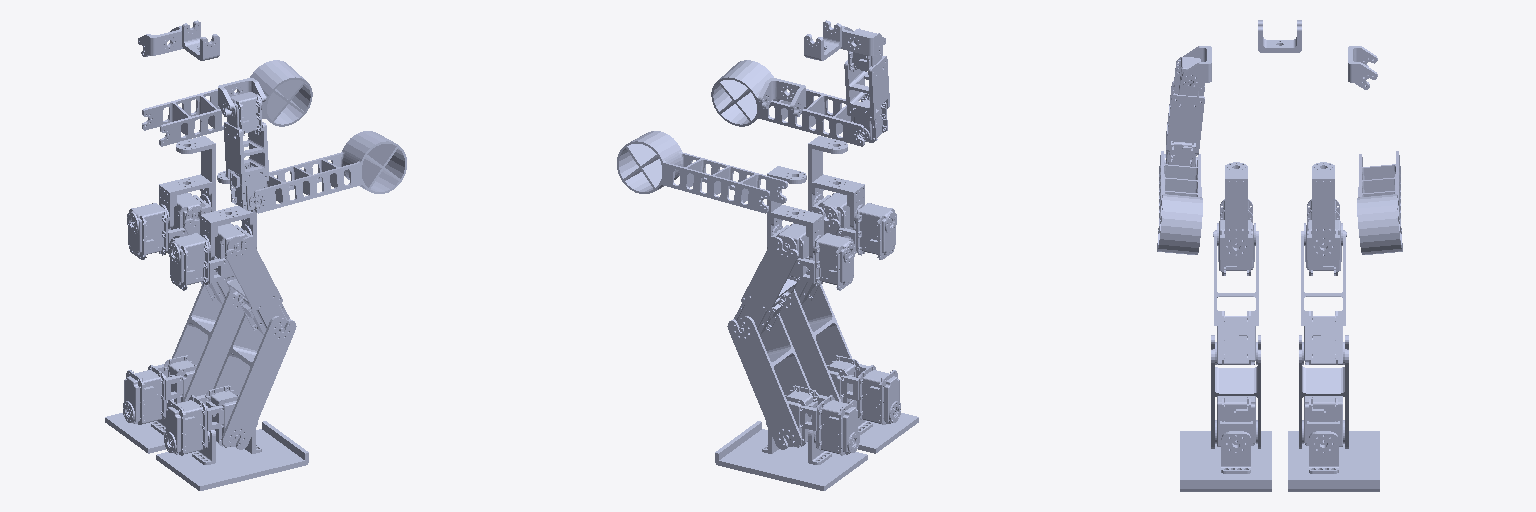
--- What the picture shows (computed from the rendered views, not written in the file) ---
The picture shows the robot from 3 angles, left to right: view 1: azimuth 30°, elevation 25°; view 2: azimuth 150°, elevation 25°; view 3: azimuth 270°, elevation 25°; orthographic projection.
Model kubot23N with 21 links and 20 joints (12 revolute, 8 fixed), rooted at base_link, posed every joint at zero.
Links seen in each view (by area): view 1: R_hand_pitch, L_hand_pitch, R_Knee, R_Ankle_roll, L_Knee, R_elbow_roll, R_Ankle_pitch, L_Ankle_pitch, R_Hip_roll, R_Hip_pitch, L_Hip_roll, L_Hip_yaw (+6 smaller); view 2: L_hand_pitch, R_hand_pitch, L_Knee, L_Ankle_roll, R_Knee, L_Ankle_pitch, R_elbow_roll, R_Ankle_pitch, L_Hip_roll, L_Hip_pitch, R_Hip_roll, R_Hip_yaw (+6 smaller); view 3: L_Ankle_roll, R_Ankle_roll, L_hand_pitch, R_hand_pitch, R_elbow_roll, L_Ankle_pitch, R_Ankle_pitch, L_Hip_pitch, R_Hip_pitch, L_Hip_yaw, R_Hip_yaw, L_Knee (+6 smaller).
Link boxes in pixels (x1,y1,x2,y2): R_hand_pitch: (254, 131, 406, 213); L_hand_pitch: (142, 60, 312, 146); R_Knee: (213, 313, 296, 449); R_Ankle_roll: (156, 421, 308, 490); L_Knee: (172, 284, 243, 401); R_elbow_roll: (224, 92, 268, 210); R_Ankle_pitch: (164, 385, 261, 455); L_Ankle_pitch: (123, 355, 196, 424); R_Hip_roll: (168, 223, 252, 290); R_Hip_pitch: (225, 223, 289, 334); L_Hip_roll: (127, 193, 211, 259); L_Hip_yaw: (159, 136, 215, 228); L_hand_pitch: (617, 131, 787, 213); R_hand_pitch: (711, 60, 864, 146); L_Knee: (727, 313, 810, 449); L_Ankle_roll: (715, 421, 867, 490); R_Knee: (780, 284, 851, 401); L_Ankle_pitch: (762, 385, 859, 455); R_elbow_roll: (844, 28, 889, 142); R_Ankle_pitch: (827, 355, 900, 424); L_Hip_roll: (771, 223, 855, 290); L_Hip_pitch: (734, 223, 798, 334); R_Hip_roll: (812, 193, 896, 259); R_Hip_yaw: (808, 136, 864, 228); L_Ankle_roll: (1288, 431, 1379, 491); R_Ankle_roll: (1180, 431, 1271, 491); L_hand_pitch: (1357, 151, 1402, 254); R_hand_pitch: (1157, 151, 1202, 254); R_elbow_roll: (1164, 57, 1204, 166); L_Ankle_pitch: (1302, 396, 1344, 473); R_Ankle_pitch: (1215, 396, 1257, 473); L_Hip_pitch: (1301, 231, 1346, 364); R_Hip_pitch: (1213, 231, 1258, 364); L_Hip_yaw: (1312, 162, 1334, 259); R_Hip_yaw: (1225, 162, 1247, 259); L_Knee: (1299, 335, 1348, 448).
Bounding box of the posed robot: 0.2946 × 0.2945 × 0.5795 m (x, y, z).
Meshes: 21 distinct files referenced, 18 mesh visuals loaded (18 binary STL); not drawn: 3 (reference not matched to a file when rendering).

robot.urdf — kubot23N:
<?xml version="1.0" encoding="utf-8"?>
<!-- This URDF was automatically created by SolidWorks to URDF Exporter! Originally created by Stephen Brawner ([email redacted]) 
     Commit Version: 1.6.0-1-g15f4949  Build Version: 1.6.7594.29634
     For more information, please see http://wiki.ros.org/sw_urdf_exporter -->
<robot
  name="kubot23N">
  <link
    name="base_link">
    <inertial>
      <origin
        xyz="-0.01298 -0.0002287 0.10165"
        rpy="0 0 0" />
      <mass
        value="1.5013" />
      <inertia
        ixx="0.002447"
        ixy="0"
        ixz="0"
        iyy="0.0016369"
        iyz="0"
        izz="0.002646" />
    </inertial>
    <visual>
      <origin
        xyz="0 0 0"
        rpy="0 0 0" />
      <geometry>
        <mesh
          filename="../meshes/base_link.STL" />
      </geometry>
      <material
        name="">
        <color
          rgba="0.79216 0.81961 0.93333 1" />
      </material>
    </visual>
    <collision>
      <origin
        xyz="0 0 0"
        rpy="0 0 0" />
      <geometry>
        <mesh
          filename="../meshes/base_link.STL" />
      </geometry>
    </collision>
  </link>
  <link
    name="L_Hip_yaw">
    <inertial>
      <origin
        xyz="0.0079905 -7.6661E-09 0.037856"
        rpy="0 0 0" />
      <mass
        value="0.042373" />
      <inertia
        ixx="2.0934E-05"
        ixy="0"
        ixz="0"
        iyy="2.3301E-05"
        iyz="0"
        izz="8.0568E-06" />
    </inertial>
    <visual>
      <origin
        xyz="0 0 0"
        rpy="0 0 0" />
      <geometry>
        <mesh
          filename="../meshes/L_Hip_yaw.STL" />
      </geometry>
      <material
        name="">
        <color
          rgba="0.79216 0.81961 0.93333 1" />
      </material>
    </visual>
    <collision>
      <origin
        xyz="0 0 0"
        rpy="0 0 0" />
      <geometry>
        <mesh
          filename="../meshes/L_Hip_yaw.STL" />
      </geometry>
    </collision>
  </link>
  <joint
    name="L_Hip_yaw_joint"
    type="fixed">
    <origin
      xyz="0.02369 0.052535 -0.026869"
      rpy="0 0 0" />
    <parent
      link="base_link" />
    <child
      link="L_Hip_yaw" />
    <axis
      xyz="0 0 1" />
    <limit command_effort="40" current="10" effort="80" gear_velocity="10" lower="-0.01" upper="0.01" velocity="15"/>
    <dynamics damping="1.0" friction="0.1"/>
  </joint>
  <link
    name="L_Hip_roll">
    <inertial>
      <origin
        xyz="-0.026534 3.8583E-05 -0.015186"
        rpy="0 0 0" />
      <mass
        value="0.16184" />
      <inertia
        ixx="5.7094E-05"
        ixy="0"
        ixz="0"
        iyy="5.6447E-05"
        iyz="0"
        izz="3.5594E-05" />
    </inertial>
    <visual>
      <origin
        xyz="0 0 0"
        rpy="0 0 0" />
      <geometry>
        <mesh
          filename="../meshes/L_Hip_roll.STL" />
      </geometry>
      <material
        name="">
        <color
          rgba="0.79216 0.81961 0.93333 1" />
      </material>
    </visual>
    <collision>
      <origin
        xyz="0 0 0"
        rpy="0 0 0" />
      <geometry>
        <mesh
          filename="../meshes/L_Hip_roll.STL" />
      </geometry>
    </collision>
  </link>
  <joint
    name="L_Hip_roll_joint"
    type="revolute">
    <origin
      xyz="0 0 0"
      rpy="0 0 0" />
    <parent
      link="L_Hip_yaw" />
    <child
      link="L_Hip_roll" />
    <axis
      xyz="-1 0 0" />
    <limit command_effort="40" current="10" effort="80" gear_velocity="10" lower="-0.45" upper="0.3" velocity="15"/>
    <dynamics damping="1.0" friction="0.1"/>
  </joint>
  <link
    name="L_Hip_pitch">
    <inertial>
      <origin
        xyz="-0.00049308 0.00014973 -0.10339"
        rpy="0 0 0" />
      <mass
        value="0.13309" />
      <inertia
        ixx="0.00010704"
        ixy="0"
        ixz="0"
        iyy="7.9626E-05"
        iyz="0"
        izz="5.4203E-05" />
    </inertial>
    <visual>
      <origin
        xyz="0 0 0"
        rpy="0 0 0" />
      <geometry>
        <mesh
          filename="../meshes/L_Hip_pitch.STL" />
      </geometry>
      <material
        name="">
        <color
          rgba="0.79216 0.81961 0.93333 1" />
      </material>
    </visual>
    <collision>
      <origin
        xyz="0 0 0"
        rpy="0 0 0" />
      <geometry>
        <mesh
          filename="../meshes/L_Hip_pitch.STL" />
      </geometry>
    </collision>
  </link>
  <joint
    name="L_Hip_pitch_joint"
    type="revolute">
    <origin
      xyz="0 0 0"
      rpy="0 -0.45 0" />
    <parent
      link="L_Hip_roll" />
    <child
      link="L_Hip_pitch" />
    <axis
      xyz="0 -1 0" />
    <limit command_effort="40" current="10" effort="80" gear_velocity="10" lower="-0.795" upper="1.0" velocity="15"/>
    <dynamics damping="1.0" friction="0.1"/>
  </joint>
  <link
    name="L_Knee">
    <inertial>
      <origin
        xyz="-0.0008 0.00019995 -0.071592"
        rpy="0 0 0" />
      <mass
        value="0.064192" />
      <inertia
        ixx="0.00017283"
        ixy="0"
        ixz="0"
        iyy="0.00013756"
        iyz="0"
        izz="5.3025E-05" />
    </inertial>
    <visual>
      <origin
        xyz="0 0 0"
        rpy="0 0 0" />
      <geometry>
        <mesh
          filename="../meshes/L_Knee.STL" />
      </geometry>
      <material
        name="">
        <color
          rgba="0.79216 0.81961 0.93333 1" />
      </material>
    </visual>
    <collision>
      <origin
        xyz="0 0 0"
        rpy="0 0 0" />
      <geometry>
        <mesh
          filename="../meshes/L_Knee.STL" />
      </geometry>
    </collision>
  </link>
  <joint
    name="L_Knee_joint"
    type="revolute">
    <origin
      xyz="0 0 -0.142"
      rpy="0 0.9 0" />
    <parent
      link="L_Hip_pitch" />
    <child
      link="L_Knee" />
    <axis
      xyz="0 -1 0" />
    <limit command_effort="40" current="10" effort="80" gear_velocity="10" lower="-1.0" upper="0.0" velocity="15"/>
    <dynamics damping="1.0" friction="0.1"/>
  </joint>
  <link
    name="L_Ankle_pitch">
    <inertial>
      <origin
        xyz="-0.023428 0.00014941 0.013986"
        rpy="0 0 0" />
      <mass
        value="0.202" />
      <inertia
        ixx="8.0067E-05"
        ixy="0"
        ixz="0"
        iyy="7.8271E-05"
        iyz="0"
        izz="4.9146E-05" />
    </inertial>
    <visual>
      <origin
        xyz="0 0 0"
        rpy="0 0 0" />
      <geometry>
        <mesh
          filename="../meshes/L_Ankle_pitch.STL" />
      </geometry>
      <material
        name="">
        <color
          rgba="0.79216 0.81961 0.93333 1" />
      </material>
    </visual>
    <collision>
      <origin
        xyz="0 0 0"
        rpy="0 0 0" />
      <geometry>
        <mesh
          filename="../meshes/L_Ankle_pitch.STL" />
      </geometry>
    </collision>
  </link>
  <joint
    name="L_Ankle_pitch_joint"
    type="revolute">
    <origin
      xyz="0 0 -0.15"
      rpy="0 -0.45 0" />
    <parent
      link="L_Knee" />
    <child
      link="L_Ankle_pitch" />
    <axis
      xyz="0 -1 0" />
    <limit command_effort="40" current="10" effort="80" gear_velocity="10" lower="-0.6" upper="0.6" velocity="15"/>
    <dynamics damping="1.0" friction="0.1"/>
  </joint>
  <link
    name="L_Ankle_roll">
    <inertial>
      <origin
        xyz="0.0032401 0.011838 -0.036203"
        rpy="0 0 0" />
      <mass
        value="0.13947" />
      <inertia
        ixx="0.00013469"
        ixy="0"
        ixz="0"
        iyy="0.00029939"
        iyz="0"
        izz="0.0004274" />
    </inertial>
    <visual>
      <origin
        xyz="0 0 0"
        rpy="0 0 0" />
      <geometry>
        <mesh
          filename="../meshes/L_Ankle_roll.STL" />
      </geometry>
      <material
        name="">
        <color
          rgba="0.79216 0.81961 0.93333 1" />
      </material>
    </visual>
    <collision>
      <origin
        xyz="0 0 0"
        rpy="0 0 0" />
      <geometry>
        <mesh
          filename="../meshes/L_Ankle_roll.STL" />
      </geometry>
    </collision>
  </link>
  <joint
    name="L_Ankle_roll_joint"
    type="revolute">
    <origin
      xyz="0 0 0"
      rpy="0 0 0" />
    <parent
      link="L_Ankle_pitch" />
    <child
      link="L_Ankle_roll" />
    <axis
      xyz="-1 0 0" />
    <limit command_effort="40" current="10" effort="80" gear_velocity="10" lower="-0.5" upper="0.5" velocity="15"/>
    <dynamics damping="0.707" friction="0.1"/>
  </joint>
  <link
    name="R_Hip_yaw">
    <inertial>
      <origin
        xyz="0.0079905 -7.6661E-09 0.037856"
        rpy="0 0 0" />
      <mass
        value="0.042373" />
      <inertia
        ixx="2.0934E-05"
        ixy="0"
        ixz="0"
        iyy="2.3301E-05"
        iyz="0"
        izz="8.0568E-06" />
    </inertial>
    <visual>
      <origin
        xyz="0 0 0"
        rpy="0 0 0" />
      <geometry>
        <mesh
          filename="../meshes/R_Hip_yaw.STL" />
      </geometry>
      <material
        name="">
        <color
          rgba="0.79216 0.81961 0.93333 1" />
      </material>
    </visual>
    <collision>
      <origin
        xyz="0 0 0"
        rpy="0 0 0" />
      <geometry>
        <mesh
          filename="../meshes/R_Hip_yaw.STL" />
      </geometry>
    </collision>
  </link>
  <joint
    name="R_Hip_yaw_joint"
    type="revolute">
    <origin
      xyz="0.02369 -0.052065 -0.026869"
      rpy="0 0 0" />
    <parent
      link="base_link" />
    <child
      link="R_Hip_yaw" />
    <axis
      xyz="0 0 1" />
    <limit command_effort="40" current="10" effort="80" gear_velocity="10" lower="-0.1" upper="0.1" velocity="15"/>
    <dynamics damping="0.707" friction="0.1"/>
  </joint>
  <link
    name="R_Hip_roll">
    <inertial>
      <origin
        xyz="-0.026534 -3.8624E-05 -0.015186"
        rpy="0 0 0" />
      <mass
        value="0.16184" />
      <inertia
        ixx="5.7094E-05"
        ixy="0"
        ixz="0"
        iyy="5.6447E-05"
        iyz="0"
        izz="3.5594E-05" />
    </inertial>
    <visual>
      <origin
        xyz="0 0 0"
        rpy="0 0 0" />
      <geometry>
        <mesh
          filename="../meshes/R_Hip_roll.STL" />
      </geometry>
      <material
        name="">
        <color
          rgba="0.79216 0.81961 0.93333 1" />
      </material>
    </visual>
    <collision>
      <origin
        xyz="0 0 0"
        rpy="0 0 0" />
      <geometry>
        <mesh
          filename="../meshes/R_Hip_roll.STL" />
      </geometry>
    </collision>
  </link>
  <joint
    name="R_Hip_roll_joint"
    type="revolute">
    <origin
      xyz="0 0 0"
      rpy="0 0 0" />
    <parent
      link="R_Hip_yaw" />
    <child
      link="R_Hip_roll" />
    <axis
      xyz="-1 0 0" />
    <limit command_effort="40" current="10" effort="80" gear_velocity="10" lower="-0.3" upper="0.45" velocity="15"/>
    <dynamics damping="1.0" friction="0.1"/>
  </joint>
  <link
    name="R_Hip_pitch">
    <inertial>
      <origin
        xyz="-0.0004978 -0.00014979 -0.10339"
        rpy="0 0 0" />
      <mass
        value="0.13309" />
      <inertia
        ixx="0.00010704"
        ixy="0"
        ixz="0"
        iyy="7.9626E-05"
        iyz="0"
        izz="5.4203E-05" />
    </inertial>
    <visual>
      <origin
        xyz="0 0 0"
        rpy="0 0 0" />
      <geometry>
        <mesh
          filename="../meshes/R_Hip_pitch.STL" />
      </geometry>
      <material
        name="">
        <color
          rgba="0.79216 0.81961 0.93333 1" />
      </material>
    </visual>
    <collision>
      <origin
        xyz="0 0 0"
        rpy="0 0 0" />
      <geometry>
        <mesh
          filename="../meshes/R_Hip_pitch.STL" />
      </geometry>
    </collision>
  </link>
  <joint
    name="R_Hip_pitch_joint"
    type="revolute">
    <origin
      xyz="0 0 0"
      rpy="0 -0.45 0" />
    <parent
      link="R_Hip_roll" />
    <child
      link="R_Hip_pitch" />
    <axis
      xyz="0 1 0" />
    <limit command_effort="40" current="10" effort="80" gear_velocity="10" lower="-1.0" upper="0.795" velocity="15"/>
    <dynamics damping="1.0" friction="0.1"/>
  </joint>
  <link
    name="R_Knee">
    <inertial>
      <origin
        xyz="-0.0008 -0.00020005 -0.071592"
        rpy="0 0 0" />
      <mass
        value="0.064192" />
      <inertia
        ixx="0.00017283"
        ixy="0"
        ixz="0"
        iyy="0.00013756"
        iyz="0"
        izz="5.3025E-05" />
    </inertial>
    <visual>
      <origin
        xyz="0 0 0"
        rpy="0 0 0" />
      <geometry>
        <mesh
          filename="../meshes/R_Knee.STL" />
      </geometry>
      <material
        name="">
        <color
          rgba="0.79216 0.81961 0.93333 1" />
      </material>
    </visual>
    <collision>
      <origin
        xyz="0 0 0"
        rpy="0 0 0" />
      <geometry>
        <mesh
          filename="../meshes/R_Knee.STL" />
      </geometry>
    </collision>
  </link>
  <joint
    name="R_Knee_joint"
    type="revolute">
    <origin
      xyz="0 0 -0.142"
      rpy="0 0.9 0" />
    <parent
      link="R_Hip_pitch" />
    <child
      link="R_Knee" />
    <axis
      xyz="0 1 0" />
    <limit command_effort="40" current="10" effort="80" gear_velocity="10" lower="-0.0" upper="1.0" velocity="15"/>
    <dynamics damping="1.0" friction="0.1"/>
  </joint>
  <link
    name="R_Ankle_pitch">
    <inertial>
      <origin
        xyz="-0.023731 -0.00015295 0.01407"
        rpy="0 0 0" />
      <mass
        value="0.20079" />
      <inertia
        ixx="7.9929E-05"
        ixy="0"
        ixz="0"
        iyy="7.8201E-05"
        iyz="0"
        izz="4.9077E-05" />
    </inertial>
    <visual>
      <origin
        xyz="0 0 0"
        rpy="0 0 0" />
      <geometry>
        <mesh
          filename="../meshes/R_Ankle_pitch.STL" />
      </geometry>
      <material
        name="">
        <color
          rgba="0.79216 0.81961 0.93333 1" />
      </material>
    </visual>
    <collision>
      <origin
        xyz="0 0 0"
        rpy="0 0 0" />
      <geometry>
        <mesh
          filename="../meshes/R_Ankle_pitch.STL" />
      </geometry>
    </collision>
  </link>
  <joint
    name="R_Ankle_pitch_joint"
    type="revolute">
    <origin
      xyz="0 0 -0.15"
      rpy="0 -0.45 0" />
    <parent
      link="R_Knee" />
    <child
      link="R_Ankle_pitch" />
    <axis
      xyz="0 1 0" />
    <limit command_effort="40" current="10" effort="80" gear_velocity="10" lower="-0.6" upper="0.6" velocity="15"/>
    <dynamics damping="1.0" friction="0.1"/>
  </joint>
  <link
    name="R_Ankle_roll">
    <inertial>
      <origin
        xyz="0.0032401 -0.011838 -0.036203"
        rpy="0 0 0" />
      <mass
        value="0.13947" />
      <inertia
        ixx="0.00013469"
        ixy="0"
        ixz="0"
        iyy="0.00029939"
        iyz="0"
        izz="0.0004274" />
    </inertial>
    <visual>
      <origin
        xyz="0 0 0"
        rpy="0 0 0" />
      <geometry>
        <mesh
          filename="../meshes/R_Ankle_roll.STL" />
      </geometry>
      <material
        name="">
        <color
          rgba="0.79216 0.81961 0.93333 1" />
      </material>
    </visual>
    <collision>
      <origin
        xyz="0 0 0"
        rpy="0 0 0" />
      <geometry>
        <mesh
          filename="../meshes/R_Ankle_roll.STL" />
      </geometry>
    </collision>
  </link>
  <joint
    name="R_Ankle_roll_joint"
    type="revolute">
    <origin
      xyz="0 0 0"
      rpy="0 0 0" />
    <parent
      link="R_Ankle_pitch" />
    <child
      link="R_Ankle_roll" />
    <axis
      xyz="-1 0 0" />
    <limit command_effort="40" current="10" effort="80" gear_velocity="10" lower="-0.5" upper="0.5" velocity="15"/>
    <dynamics damping="0.707" friction="0.1"/>
  </joint>
  <link
    name="L_shoulder_pitch">
    <inertial>
      <origin
        xyz="-5.0536E-10 0.010248 -0.0016377"
        rpy="0 0 0" />
      <mass
        value="0.01447" />
      <inertia
        ixx="2.0393E-06"
        ixy="0"
        ixz="0"
        iyy="6.5772E-06"
        iyz="0"
        izz="6.757E-06" />
    </inertial>
    <visual>
      <origin
        xyz="0 0 0"
        rpy="0 0 0" />
      <geometry>
        <mesh
          filename="../meshes/L_shoulder_pitch.STL" />
      </geometry>
      <material
        name="">
        <color
          rgba="0.79216 0.81961 0.93333 1" />
      </material>
    </visual>
    <collision>
      <origin
        xyz="0 0 0"
        rpy="0 0 0" />
      <geometry>
        <mesh
          filename="../meshes/L_shoulder_pitch.STL" />
      </geometry>
    </collision>
  </link>
  <joint
    name="L_shoulder_pitch_joint"
    type="fixed">
    <origin
      xyz="0.01519 0.081985 0.19521"
      rpy="0 0 0" />
    <parent
      link="base_link" />
    <child
      link="L_shoulder_pitch" />
    <axis
      xyz="0 -1 0" />
    <limit command_effort="40" current="10" effort="80" gear_velocity="10" lower="-0.05" upper="0.05" velocity="15"/>
    <dynamics damping="0.707" friction="0.1"/>
  </joint>
  <link
    name="L_elbow_roll">
    <inertial>
      <origin
        xyz="-0.02074 1.0222E-05 -0.061881"
        rpy="0 0 0" />
      <mass
        value="0.12312" />
      <inertia
        ixx="4.1405E-05"
        ixy="0"
        ixz="0"
        iyy="4.4134E-05"
        iyz="0"
        izz="2.9326E-05" />
    </inertial>
    <visual>
      <origin
        xyz="0 0 0"
        rpy="0 0 0" />
      <geometry>
        <mesh
          filename="../meshes/L_elbow_roll.STL" />
      </geometry>
      <material
        name="">
        <color
          rgba="0.79216 0.81961 0.93333 1" />
      </material>
    </visual>
    <collision>
      <origin
        xyz="0 0 0"
        rpy="0 0 0" />
      <geometry>
        <mesh
          filename="../meshes/L_elbow_roll.STL" />
      </geometry>
    </collision>
  </link>
  <joint
    name="L_elbow_roll_joint"
    type="fixed">
    <origin
      xyz="0.020275 0.025656 -0.01045"
      rpy="0.1 0 0" />
    <parent
      link="L_shoulder_pitch" />
    <child
      link="L_elbow_roll" />
    <axis
      xyz="-1 0 0" />
    <limit command_effort="40" current="10" effort="80" gear_velocity="10" lower="-0.1" upper="0.03" velocity="15"/>
    <dynamics damping="1.0" friction="0.1"/>
  </joint>
  <link
    name="L_hand_pitch">
    <inertial>
      <origin
        xyz="-2.6021E-15 -0.020275 -0.13605"
        rpy="0 0 0" />
      <mass
        value="0.085842" />
      <inertia
        ixx="0.00035605"
        ixy="0"
        ixz="0"
        iyy="0.00035569"
        iyz="0"
        izz="4.765E-05" />
    </inertial>
    <visual>
      <origin
        xyz="0 0 0"
        rpy="0 0 0" />
      <geometry>
        <mesh
          filename="../meshes/L_hand_pitch.STL" />
      </geometry>
      <material
        name="">
        <color
          rgba="0.79216 0.81961 0.93333 1" />
      </material>
    </visual>
    <collision>
      <origin
        xyz="0 0 0"
        rpy="0 0 0" />
      <geometry>
        <mesh
          filename="../meshes/L_hand_pitch.STL" />
      </geometry>
    </collision>
  </link>
  <joint
    name="L_hand_pitch_joint"
    type="fixed">
    <origin
      xyz="-0.02075 0.02075 -0.1231"
      rpy="0 -1.6 0" />
    <parent
      link="L_elbow_roll" />
    <child
      link="L_hand_pitch" />
    <axis
      xyz="0 -1 0" />
    <limit command_effort="40" current="10" effort="80" gear_velocity="10" lower="-0.01" upper="0.03" velocity="15"/>
    <dynamics damping="0.707" friction="0.1"/>
  </joint>
  <link
    name="R_shoulder_pitch">
    <inertial>
      <origin
        xyz="5.0536E-10 -0.010248 -0.0016377"
        rpy="0 0 0" />
      <mass
        value="0.01447" />
      <inertia
        ixx="2.0393E-06"
        ixy="0"
        ixz="0"
        iyy="6.5772E-06"
        iyz="0"
        izz="6.757E-06" />
    </inertial>
    <visual>
      <origin
        xyz="0 0 0"
        rpy="0 0 0" />
      <geometry>
        <mesh
          filename="../meshes/R_shoulder_pitch.STL" />
      </geometry>
      <material
        name="">
        <color
          rgba="0.79216 0.81961 0.93333 1" />
      </material>
    </visual>
    <collision>
      <origin
        xyz="0 0 0"
        rpy="0 0 0" />
      <geometry>
        <mesh
          filename="../meshes/R_shoulder_pitch.STL" />
      </geometry>
    </collision>
  </link>
  <joint
    name="R_shoulder_pitch_joint"
    type="fixed">
    <origin
      xyz="0.01519 -0.081515 0.19521"
      rpy="0 0 0" />
    <parent
      link="base_link" />
    <child
      link="R_shoulder_pitch" />
    <axis
      xyz="0 1 0" />
    <limit command_effort="40" current="10" effort="80" gear_velocity="10" lower="-0.05" upper="0.05" velocity="15"/>
    <dynamics damping="0.707" friction="0.1"/>
  </joint>
  <link
    name="R_elbow_roll">
    <inertial>
      <origin
        xyz="-0.020741 -8.8027E-06 -0.061881"
        rpy="0 0 0" />
      <mass
        value="0.12312" />
      <inertia
        ixx="4.1405E-05"
        ixy="0"
        ixz="0"
        iyy="4.4134E-05"
        iyz="0"
        izz="2.9326E-05" />
    </inertial>
    <visual>
      <origin
        xyz="0 0 0"
        rpy="0 0 0" />
      <geometry>
        <mesh
          filename="../meshes/R_elbow_roll.STL" />
      </geometry>
      <material
        name="">
        <color
          rgba="0.79216 0.81961 0.93333 1" />
      </material>
    </visual>
    <collision>
      <origin
        xyz="0 0 0"
        rpy="0 0 0" />
      <geometry>
        <mesh
          filename="../meshes/R_elbow_roll.STL" />
      </geometry>
    </collision>
  </link>
  <joint
    name="R_elbow_roll_joint"
    type="fixed">
    <origin
      xyz="0.020275 -0.025656 -0.01045"
      rpy="-0.1 0 0" />
    <parent
      link="R_shoulder_pitch" />
    <child
      link="R_elbow_roll" />
    <axis
      xyz="-1 0 0" />
    <limit command_effort="40" current="10" effort="80" gear_velocity="10" lower="-0.03" upper="0.1" velocity="15"/>
    <dynamics damping="1.0" friction="0.1"/>
  </joint>
  <link
    name="R_hand_pitch">
    <inertial>
      <origin
        xyz="-4.8572E-16 0.020275 -0.13605"
        rpy="0 0 0" />
      <mass
        value="0.085842" />
      <inertia
        ixx="0.00035605"
        ixy="0"
        ixz="0"
        iyy="0.00035569"
        iyz="0"
        izz="4.765E-05" />
    </inertial>
    <visual>
      <origin
        xyz="0 0 0"
        rpy="0 0 0" />
      <geometry>
        <mesh
          filename="../meshes/R_hand_pitch.STL" />
      </geometry>
      <material
        name="">
        <color
          rgba="0.79216 0.81961 0.93333 1" />
      </material>
    </visual>
    <collision>
      <origin
        xyz="0 0 0"
        rpy="0 0 0" />
      <geometry>
        <mesh
          filename="../meshes/R_hand_pitch.STL" />
      </geometry>
    </collision>
  </link>
  <joint
    name="R_hand_pitch_joint"
    type="fixed">
    <origin
      xyz="-0.02075 -0.02075 -0.1231"
      rpy="0 -1.6 0" />
    <parent
      link="R_elbow_roll" />
    <child
      link="R_hand_pitch" />
    <axis
      xyz="0 1 0" />
    <limit command_effort="40" current="10" effort="80" gear_velocity="10" lower="-0.03" upper="0.01" velocity="15"/>
    <dynamics damping="0.707" friction="0.1"/>
  </joint>
  <link
    name="Neck_yaw">
    <inertial>
      <origin
        xyz="1.027E-15 2.3592E-16 0.010333"
        rpy="0 0 0" />
      <mass
        value="0.014237" />
      <inertia
        ixx="6.6446E-06"
        ixy="0"
        ixz="0"
        iyy="1.9564E-06"
        iyz="0"
        izz="6.2867E-06" />
    </inertial>
    <visual>
      <origin
        xyz="0 0 0"
        rpy="0 0 0" />
      <geometry>
        <mesh
          filename="../meshes/Neck_yaw.STL" />
      </geometry>
      <material
        name="">
        <color
          rgba="0.79216 0.81961 0.93333 1" />
      </material>
    </visual>
    <collision>
      <origin
        xyz="0 0 0"
        rpy="0 0 0" />
      <geometry>
        <mesh
          filename="../meshes/Neck_yaw.STL" />
      </geometry>
    </collision>
  </link>
  <joint
    name="Neck_yaw_joint"
    type="fixed">
    <origin
      xyz="0.01344 0.00023493 0.21516"
      rpy="0 0 0" />
    <parent
      link="base_link" />
    <child
      link="Neck_yaw" />
    <axis
      xyz="0 0 -1" />
    <limit command_effort="40" current="10" effort="80" gear_velocity="10" lower="-0.01" upper="0.01" velocity="15"/>
    <dynamics damping="0.707" friction="0.1"/>
  </joint>
  <link
    name="head_pitch">
    <inertial>
      <origin
        xyz="-0.00087615 -0.00049281 0.038502"
        rpy="0 0 0" />
      <mass
        value="0.14082" />
      <inertia
        ixx="0.0001309"
        ixy="0"
        ixz="0"
        iyy="2.5779E-05"
        iyz="0"
        izz="0.00012811" />
    </inertial>
    <visual>
      <origin
        xyz="0 0 0"
        rpy="0 0 0" />
      <geometry>
        <mesh
          filename="../meshes/head_pitch.STL" />
      </geometry>
      <material
        name="">
        <color
          rgba="0.79216 0.81961 0.93333 1" />
      </material>
    </visual>
    <collision>
      <origin
        xyz="0 0 0"
        rpy="0 0 0" />
      <geometry>
        <mesh
          filename="../meshes/head_pitch.STL" />
      </geometry>
    </collision>
  </link>
  <joint
    name="head_pitch_joint"
    type="revolute">
    <origin
      xyz="0 0 0.0275"
      rpy="0 0 0" />
    <parent
      link="Neck_yaw" />
    <child
      link="head_pitch" />
    <axis
      xyz="0 1 0" />
    <limit command_effort="40" current="10" effort="80" gear_velocity="10" lower="-0.01" upper="0.01" velocity="15"/>
    <dynamics damping="0.707" friction="0.1"/>
  </joint>
</robot>
